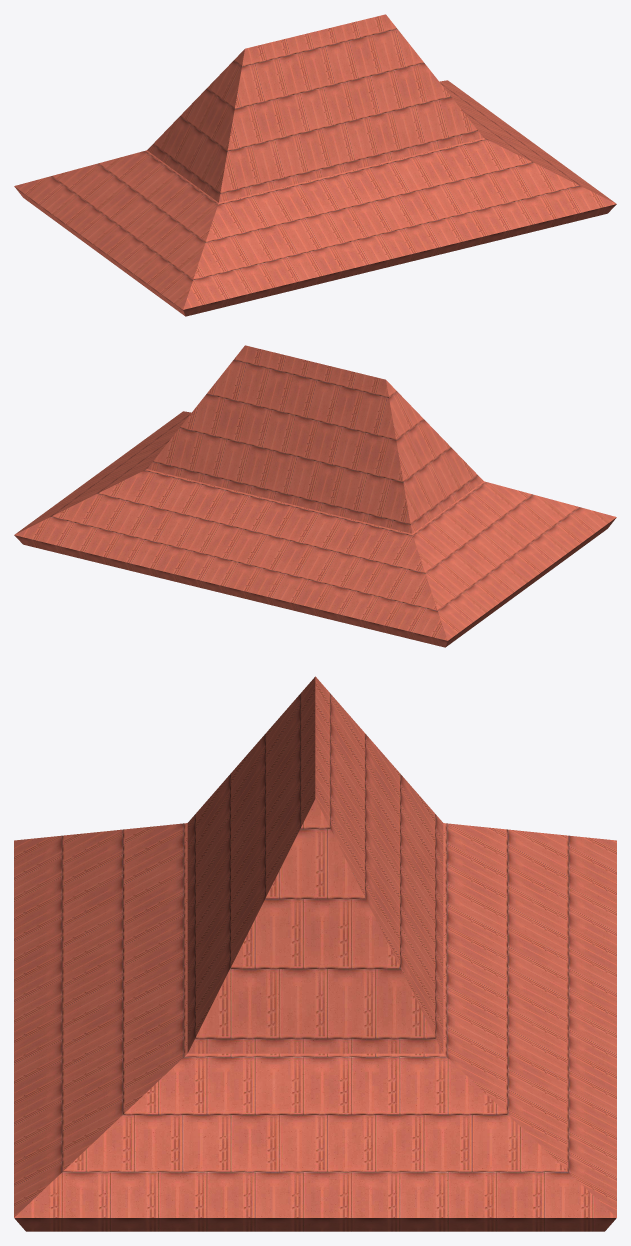
The model's file is Joglo_part_368.fbx.
The picture shows the model from 3 angles, top to bottom: view 1: azimuth 30°, elevation 25°; view 2: azimuth 150°, elevation 25°; view 3: azimuth 270°, elevation 25°; orthographic projection. The views are drawn at different scales.
Parts seen in each view (by area): view 1: Mesh414_Roof_Tiles___French_Red_0.001; view 2: Mesh414_Roof_Tiles___French_Red_0.001; view 3: Mesh414_Roof_Tiles___French_Red_0.001.
Boxes of the visible parts, bbox=[...] form: Mesh414_Roof_Tiles___French_Red_0.001: bbox=[14, 14, 616, 316]; Mesh414_Roof_Tiles___French_Red_0.001: bbox=[14, 345, 616, 647]; Mesh414_Roof_Tiles___French_Red_0.001: bbox=[14, 676, 616, 1231].
Bounding box in the file's own units: 146 × 55.93 × 98.43.
